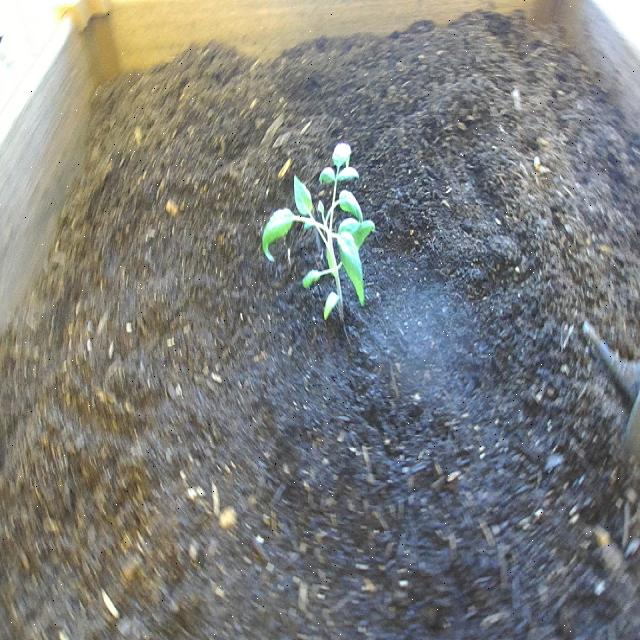Healthy: (258, 137, 379, 333)
